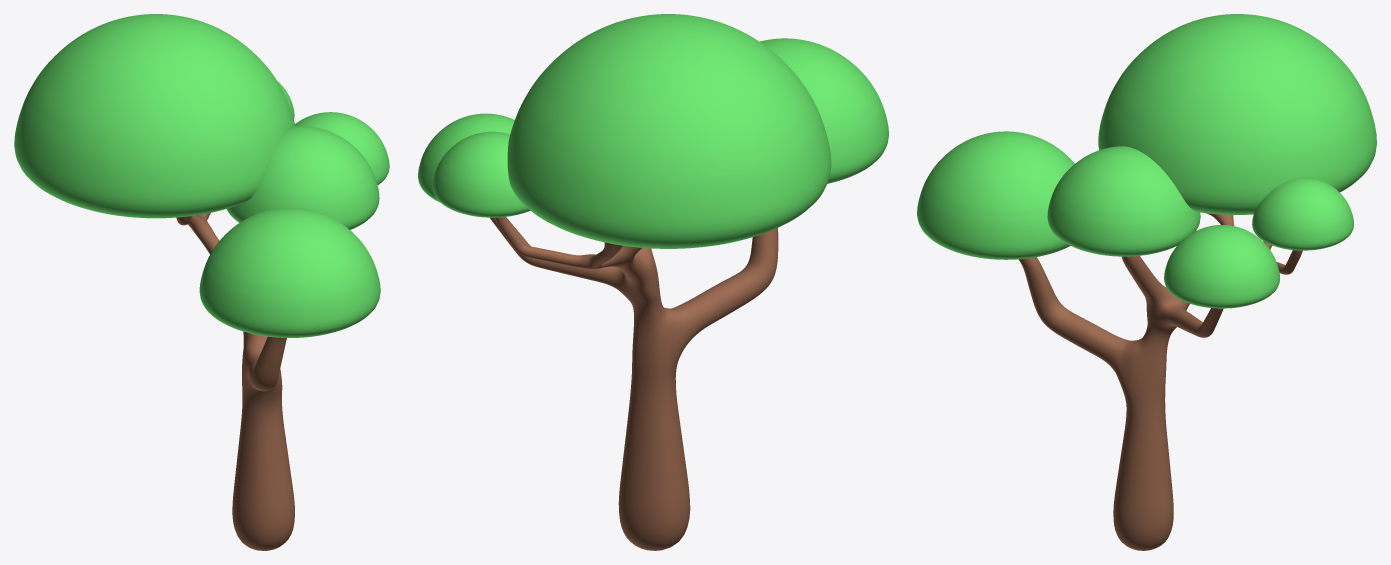
The model's file is tree3.fbx.
3 renders of one model, left to right at view 1: azimuth 30°, elevation 25°; view 2: azimuth 150°, elevation 25°; view 3: azimuth 270°, elevation 25°, orthographic. The views are drawn at different scales.
Parts seen in each view (by area): view 1: Sphere.001, Sphere, Cube, Sphere.002, Sphere.003; view 2: Sphere.001, Cube, Sphere, Sphere.004, Sphere.003; view 3: Sphere.001, Cube, Sphere, Sphere.002, Sphere.003, Sphere.004.
Part boxes in pixels (x1=…): Sphere.001: x1=14, y1=14, x2=295, y2=218; Sphere: x1=199, y1=207, x2=380, y2=337; Cube: x1=176, y1=213, x2=294, y2=550; Sphere.002: x1=226, y1=126, x2=379, y2=229; Sphere.003: x1=295, y1=112, x2=389, y2=184; Sphere.001: x1=507, y1=14, x2=831, y2=248; Cube: x1=490, y1=217, x2=778, y2=550; Sphere: x1=760, y1=38, x2=888, y2=183; Sphere.004: x1=432, y1=131, x2=530, y2=217; Sphere.003: x1=418, y1=113, x2=514, y2=202; Sphere.001: x1=1098, y1=14, x2=1376, y2=214; Cube: x1=1018, y1=213, x2=1302, y2=550; Sphere: x1=917, y1=131, x2=1074, y2=259; Sphere.002: x1=1047, y1=146, x2=1200, y2=256; Sphere.003: x1=1164, y1=225, x2=1279, y2=308; Sphere.004: x1=1252, y1=177, x2=1353, y2=250.
Bounding box in the file's own units: 208 × 293 × 248.
